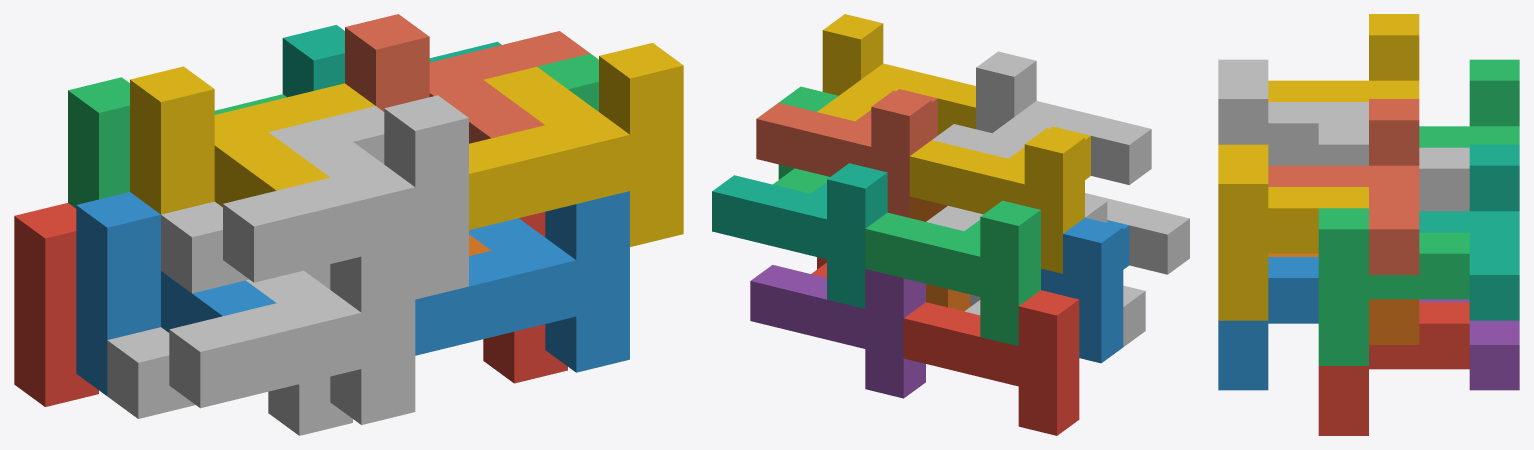
The model's file is tiling.obj.
The picture shows the model from 3 angles, left to right: view 1: azimuth 30°, elevation 25°; view 2: azimuth 150°, elevation 25°; view 3: azimuth 270°, elevation 25°; orthographic projection. The views are drawn at different scales.
Visible parts, largest first — view 1: copy_2_domain_4, copy_2_domain_8, copy_2_domain_2, copy_2_domain_6, copy_1_domain_4, copy_1_domain_2, copy_1_domain_8, copy_1_domain_1, copy_2_domain_1, copy_1_domain_3, copy_2_domain_3, copy_1_domain_7 (+2 smaller); view 2: copy_1_domain_1, copy_1_domain_3, copy_1_domain_7, copy_1_domain_4, copy_1_domain_5, copy_1_domain_8, copy_2_domain_4, copy_2_domain_8, copy_1_domain_2, copy_2_domain_2, copy_2_domain_3, copy_2_domain_7 (+2 smaller); view 3: copy_2_domain_8, copy_2_domain_7, copy_1_domain_8, copy_1_domain_7, copy_2_domain_4, copy_2_domain_5, copy_2_domain_6, copy_1_domain_4, copy_2_domain_3, copy_1_domain_3, copy_1_domain_5, copy_1_domain_6.
Boxes of the visible parts, bbox=[...] form: copy_2_domain_4: bbox=[223, 95, 468, 299]; copy_2_domain_8: bbox=[469, 43, 683, 246]; copy_2_domain_2: bbox=[169, 243, 415, 424]; copy_2_domain_6: bbox=[415, 191, 629, 372]; copy_1_domain_4: bbox=[130, 66, 375, 214]; copy_1_domain_2: bbox=[76, 192, 276, 395]; copy_1_domain_8: bbox=[345, 14, 590, 143]; copy_1_domain_1: bbox=[14, 203, 98, 406]; copy_2_domain_1: bbox=[107, 264, 352, 435]; copy_1_domain_3: bbox=[68, 77, 286, 208]; copy_2_domain_3: bbox=[161, 106, 384, 293]; copy_1_domain_7: bbox=[282, 25, 501, 97]; copy_1_domain_1: bbox=[903, 290, 1079, 435]; copy_1_domain_3: bbox=[865, 200, 1040, 346]; copy_1_domain_7: bbox=[712, 163, 887, 308]; copy_1_domain_4: bbox=[909, 126, 1090, 273]; copy_1_domain_5: bbox=[750, 265, 925, 398]; copy_1_domain_8: bbox=[756, 89, 937, 217]; copy_2_domain_4: bbox=[970, 51, 1151, 184]; copy_2_domain_8: bbox=[817, 14, 975, 135]; copy_1_domain_2: bbox=[1041, 217, 1129, 363]; copy_2_domain_2: bbox=[1085, 193, 1189, 274]; copy_2_domain_3: bbox=[926, 124, 1107, 230]; copy_2_domain_7: bbox=[773, 86, 838, 193]; copy_2_domain_8: bbox=[1218, 144, 1368, 320]; copy_2_domain_7: bbox=[1318, 208, 1469, 365]; copy_1_domain_8: bbox=[1268, 99, 1419, 274]; copy_1_domain_7: bbox=[1419, 144, 1519, 320]; copy_2_domain_4: bbox=[1218, 59, 1368, 165]; copy_2_domain_5: bbox=[1318, 302, 1469, 435]; copy_2_domain_6: bbox=[1218, 257, 1318, 390]; copy_1_domain_4: bbox=[1268, 14, 1419, 101]; copy_2_domain_3: bbox=[1318, 123, 1469, 211]; copy_1_domain_3: bbox=[1419, 59, 1519, 147]; copy_1_domain_5: bbox=[1419, 299, 1519, 390]; copy_1_domain_6: bbox=[1268, 253, 1419, 344].
Bounding box in the file's own units: 9 × 6 × 6.
